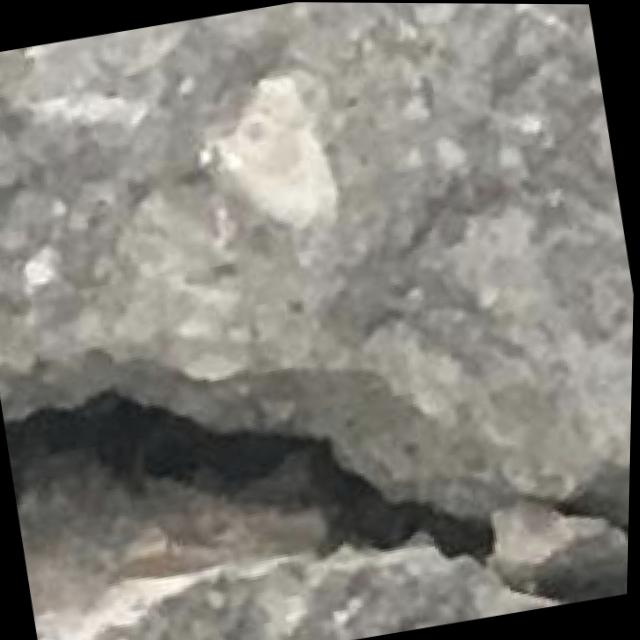Crack: (0, 255, 636, 640)
